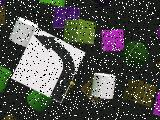Left: (11, 27, 86, 103)
